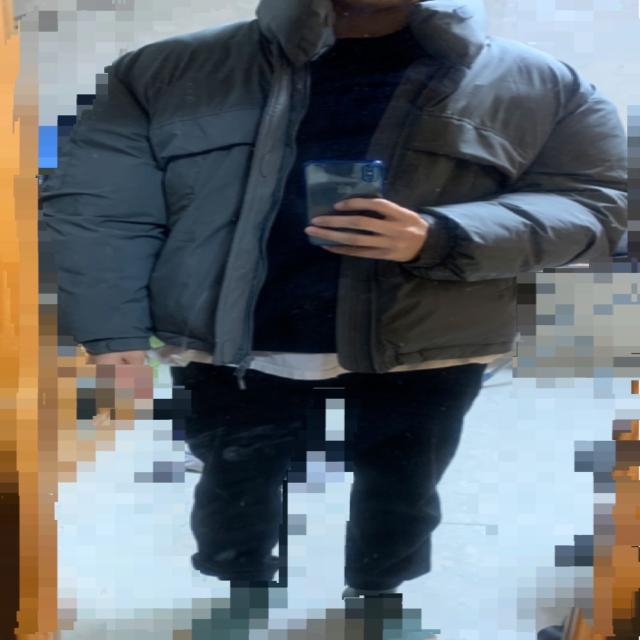padding: (49, 0, 626, 376)
trainingpants: (168, 356, 478, 590)
